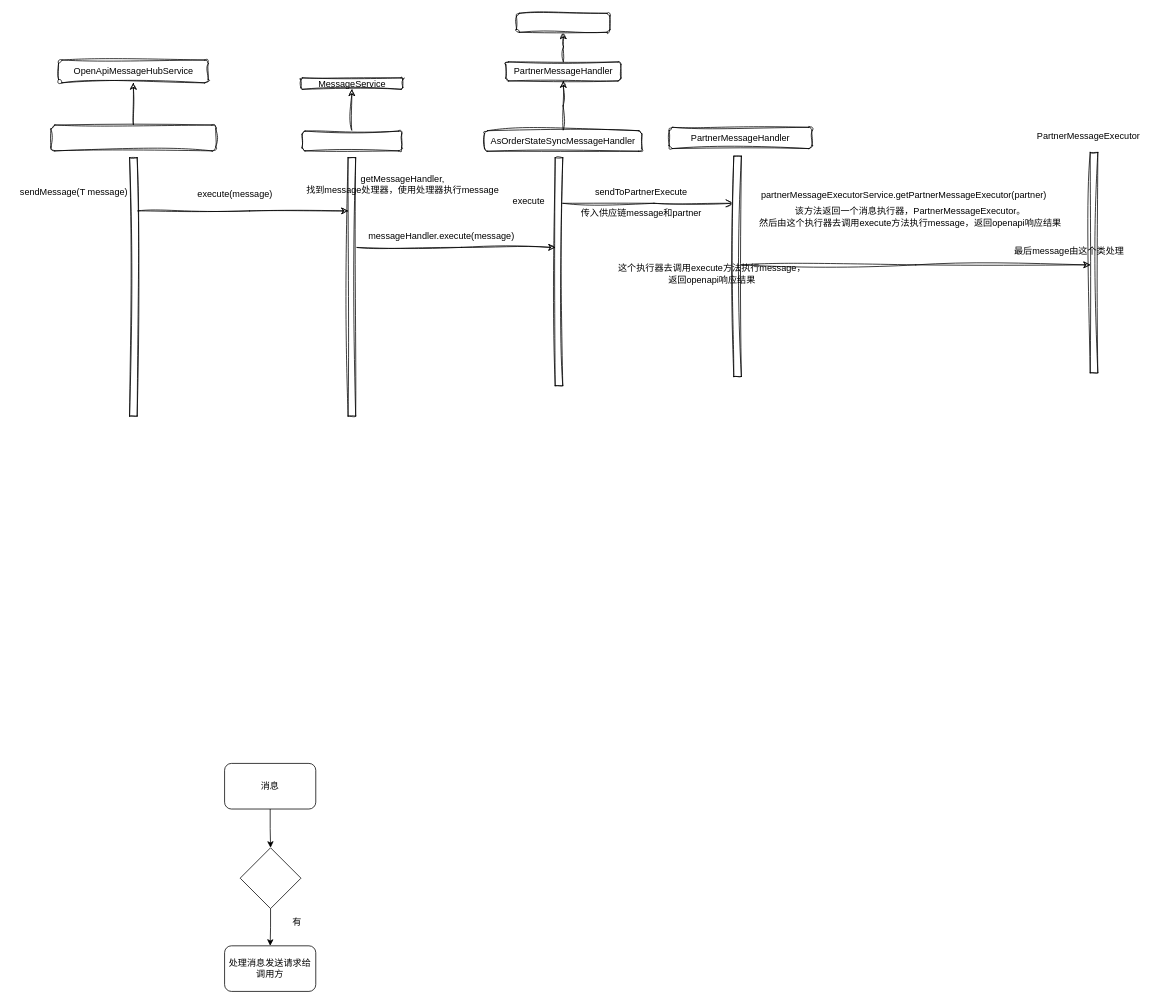
Image size: 1167x1005. Some labels were removed from this diagram. The shapes that lost their labels are listed below. From the top down, each one's centre as x and y in pixels, then its label:
pixel 563 22: MessageHandler
pixel 133 137: OpenApiMessageHubServiceImpl
pixel 351 140: MessageServiceImpl
pixel 270 878: 是否有内部消息处理器
